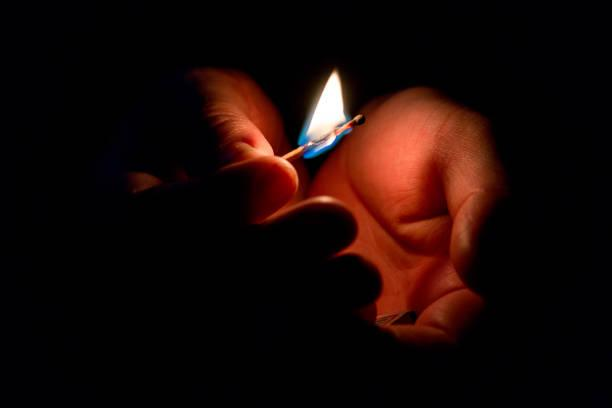Fire: (295, 65, 352, 157)
